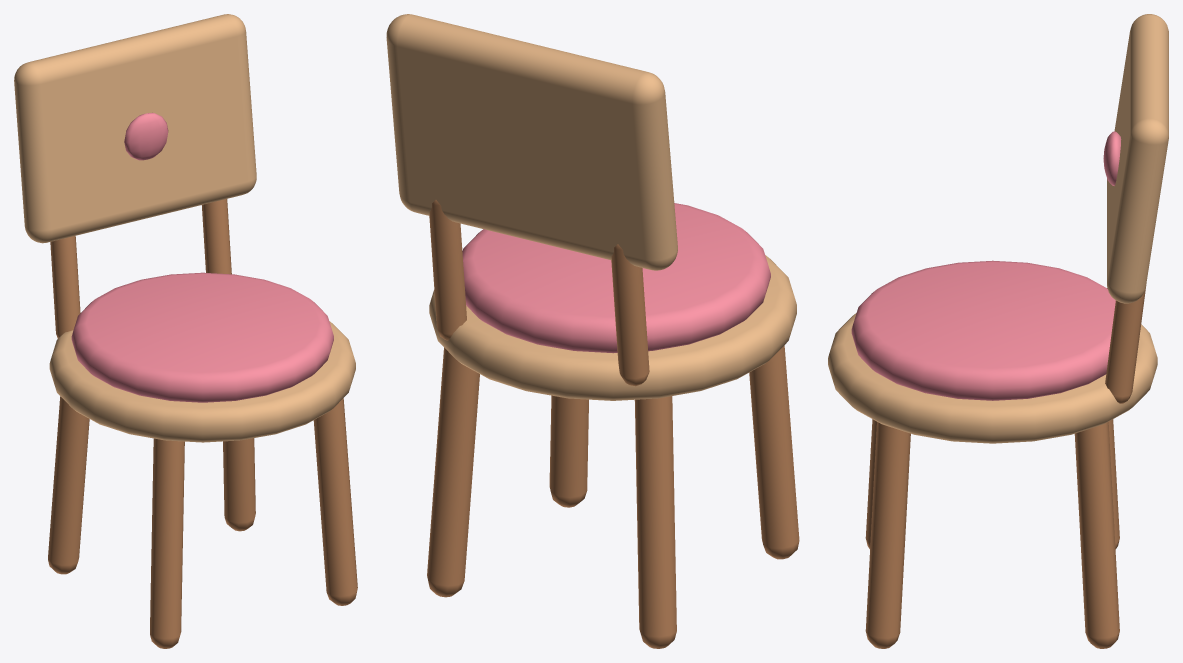
File: chair.glb
The picture shows the model from 3 angles, left to right: view 1: azimuth 30°, elevation 25°; view 2: azimuth 150°, elevation 25°; view 3: azimuth 270°, elevation 25°; orthographic projection. The views are drawn at different scales.
Parts seen in each view (by area): view 1: Chair; view 2: Chair; view 3: Chair.
Part boxes in pixels (x1,y1,x2,y2): Chair: (14, 14, 357, 648); Chair: (386, 14, 799, 648); Chair: (828, 14, 1168, 648).
Size of the model in its own units: 0.42 by 0.7507 by 0.4344.
